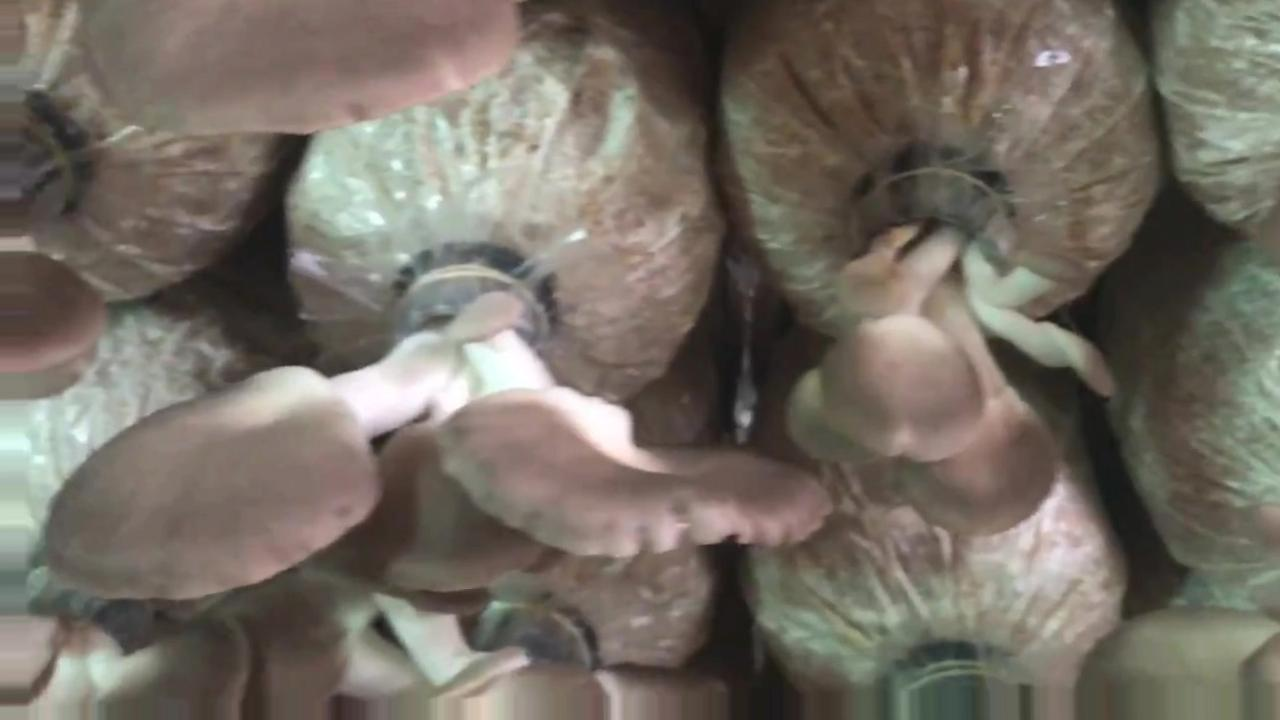nam: (43, 257, 835, 605), (784, 149, 1114, 559), (80, 5, 531, 135), (1, 98, 110, 385)
